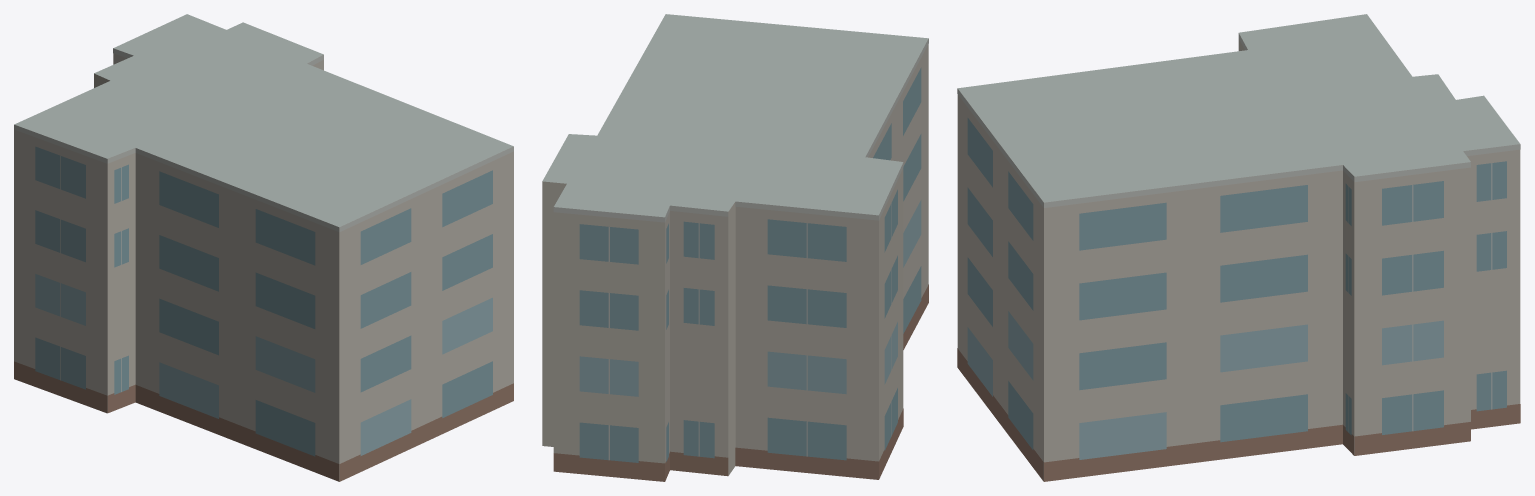
The model's file is survey-upis-32616922.glb.
The picture shows the model from 3 angles, left to right: view 1: azimuth 30°, elevation 25°; view 2: azimuth 150°, elevation 25°; view 3: azimuth 270°, elevation 25°; orthographic projection. The views are drawn at different scales.
Parts seen in each view (by area): view 1: survey-upis-32616922.tmp; view 2: survey-upis-32616922.tmp; view 3: survey-upis-32616922.tmp.
Boxes of the visible parts, x1,y1,x2,y2 form: survey-upis-32616922.tmp: [14, 14, 513, 481]; survey-upis-32616922.tmp: [542, 14, 928, 481]; survey-upis-32616922.tmp: [957, 14, 1520, 481].
Size of the model in its own units: 17.98 by 12.4 by 22.67.
